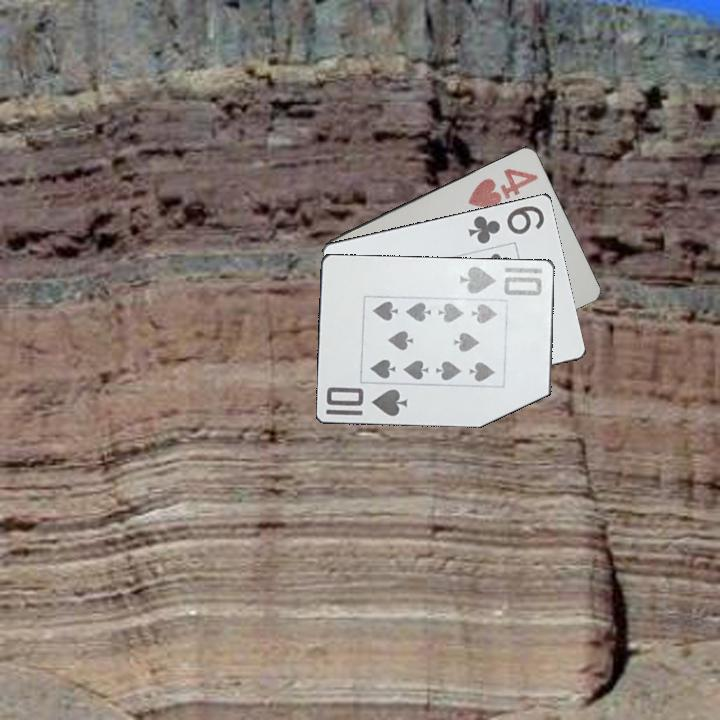4h: (464, 164, 541, 211)
6c: (464, 202, 547, 246)
Ts: (322, 383, 411, 419), (458, 263, 545, 298)
